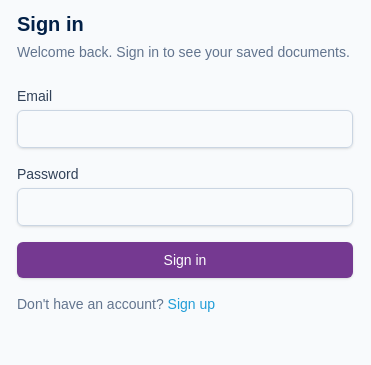
AuthScreen › shows an error message when sign in fails
The width and height of the screenshot is (371, 365).
Type "a@example.com" into the field labelled "Email".
click(185, 129); type("a@example.com")  # box [17,110,353,148]
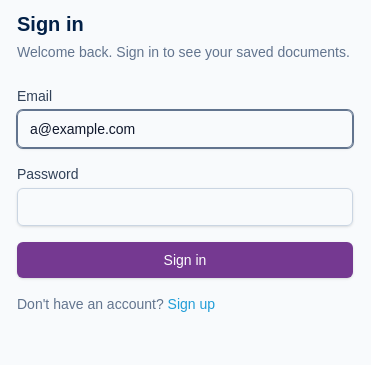
Type "wrongpass" into the password field labelled "Password".
click(185, 207); type("wrongpass")  # box [17,188,353,226]
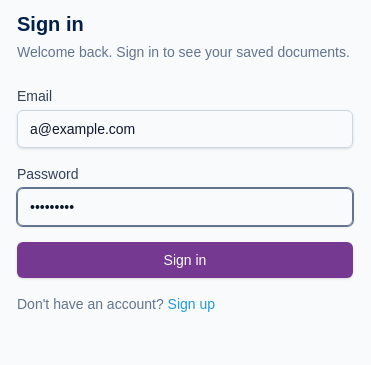
Click the button "Sign in".
click(185, 260)  # box [17,242,353,278]
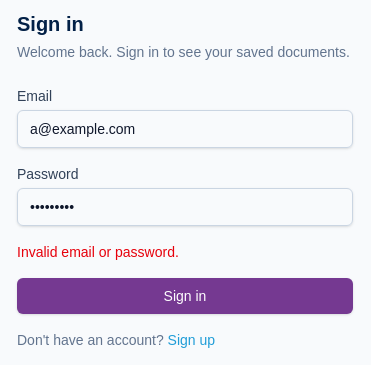
expect the text "Invalid email or password." is shown: met, box [17,244,179,260]
